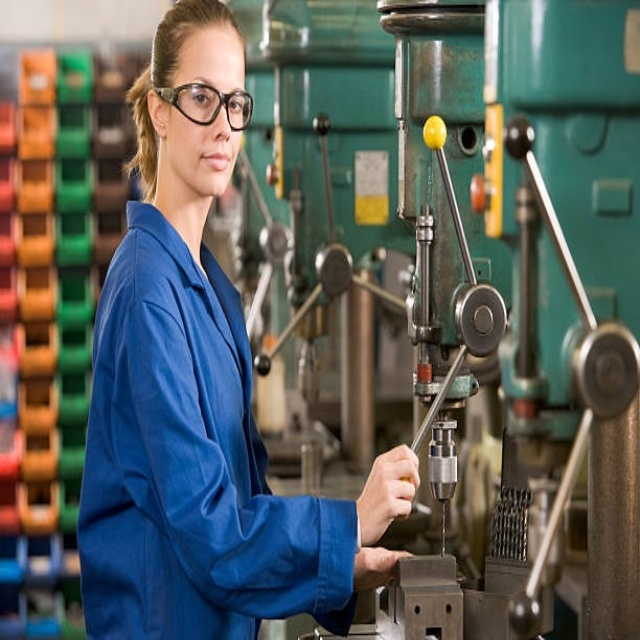Gafas: (154, 83, 253, 130)
Sin_guantes: (361, 442, 423, 543), (354, 545, 414, 592)
Sin_mascara: (192, 141, 233, 198)
